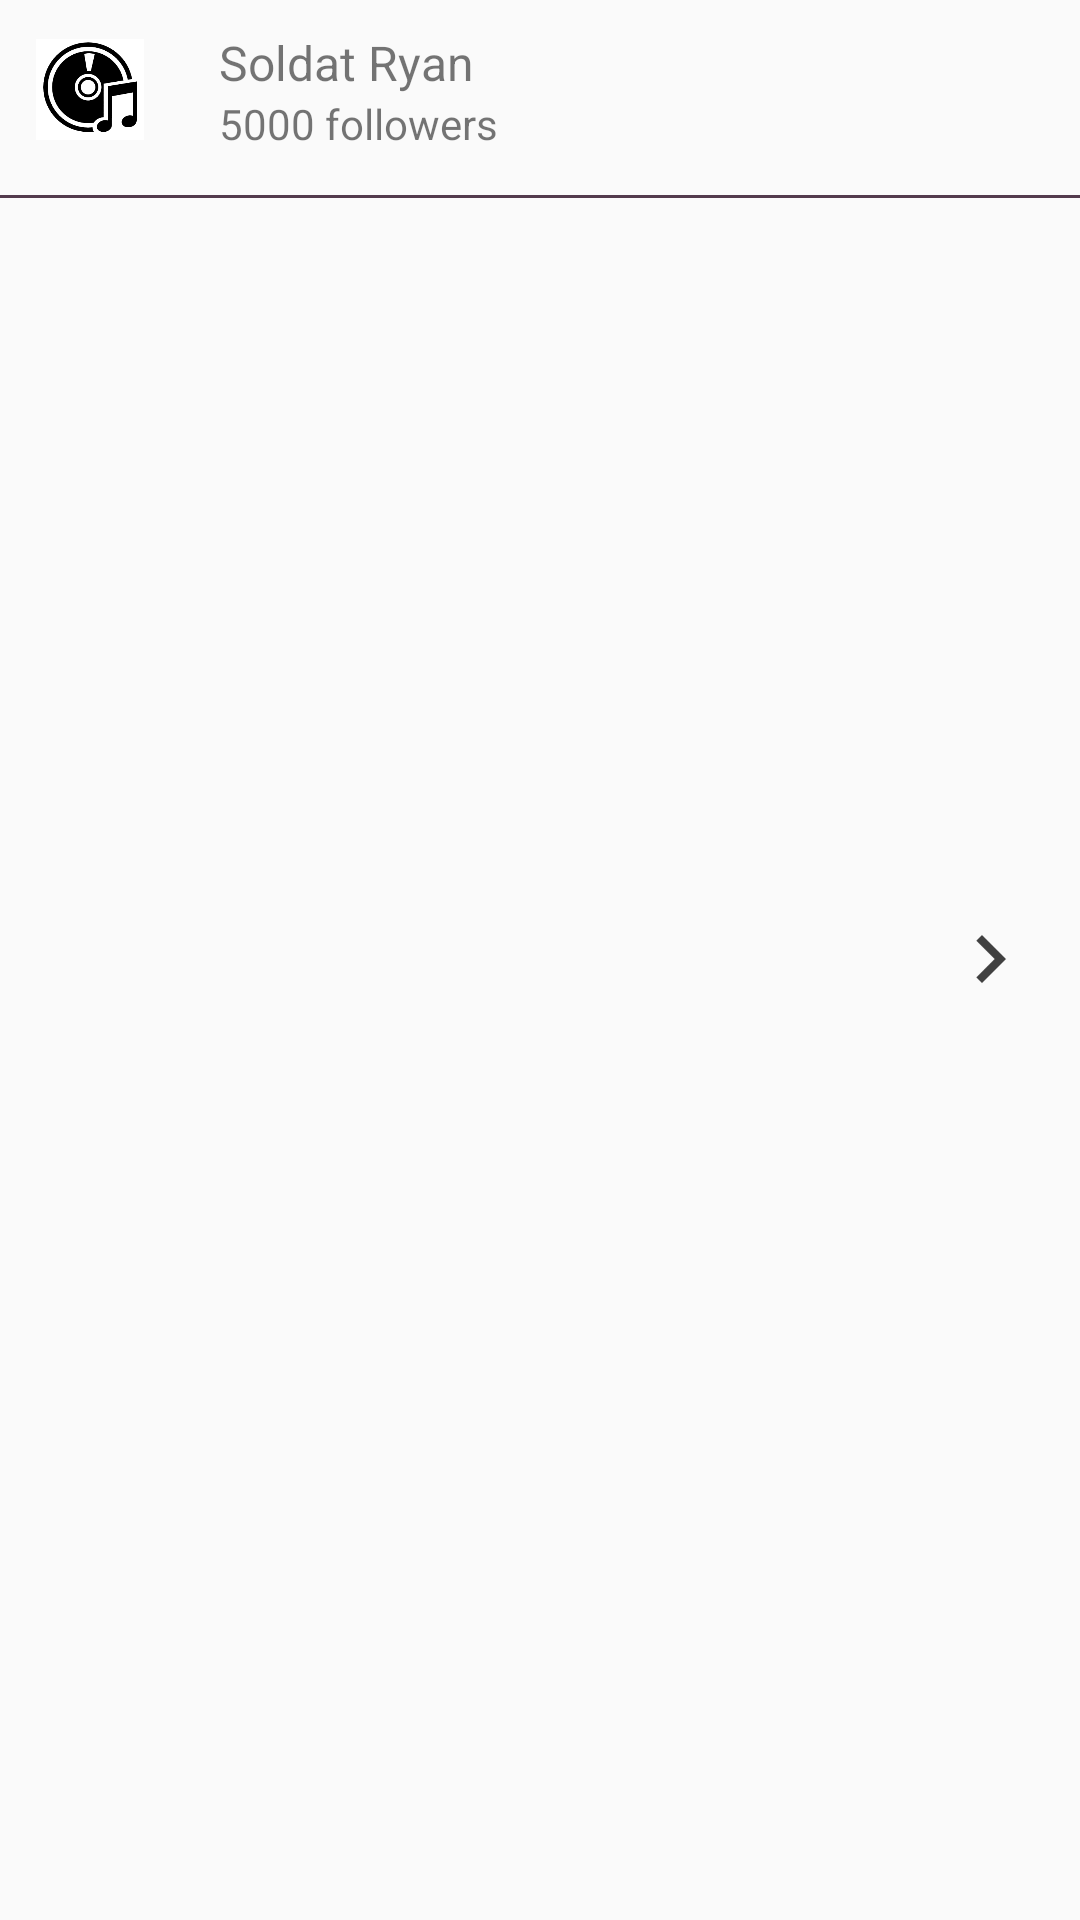

Named icons in this screenshot (1080 x 1920) and their centers, point (x, y):
album vignette: point (90, 87)
more options row: point (991, 959)
